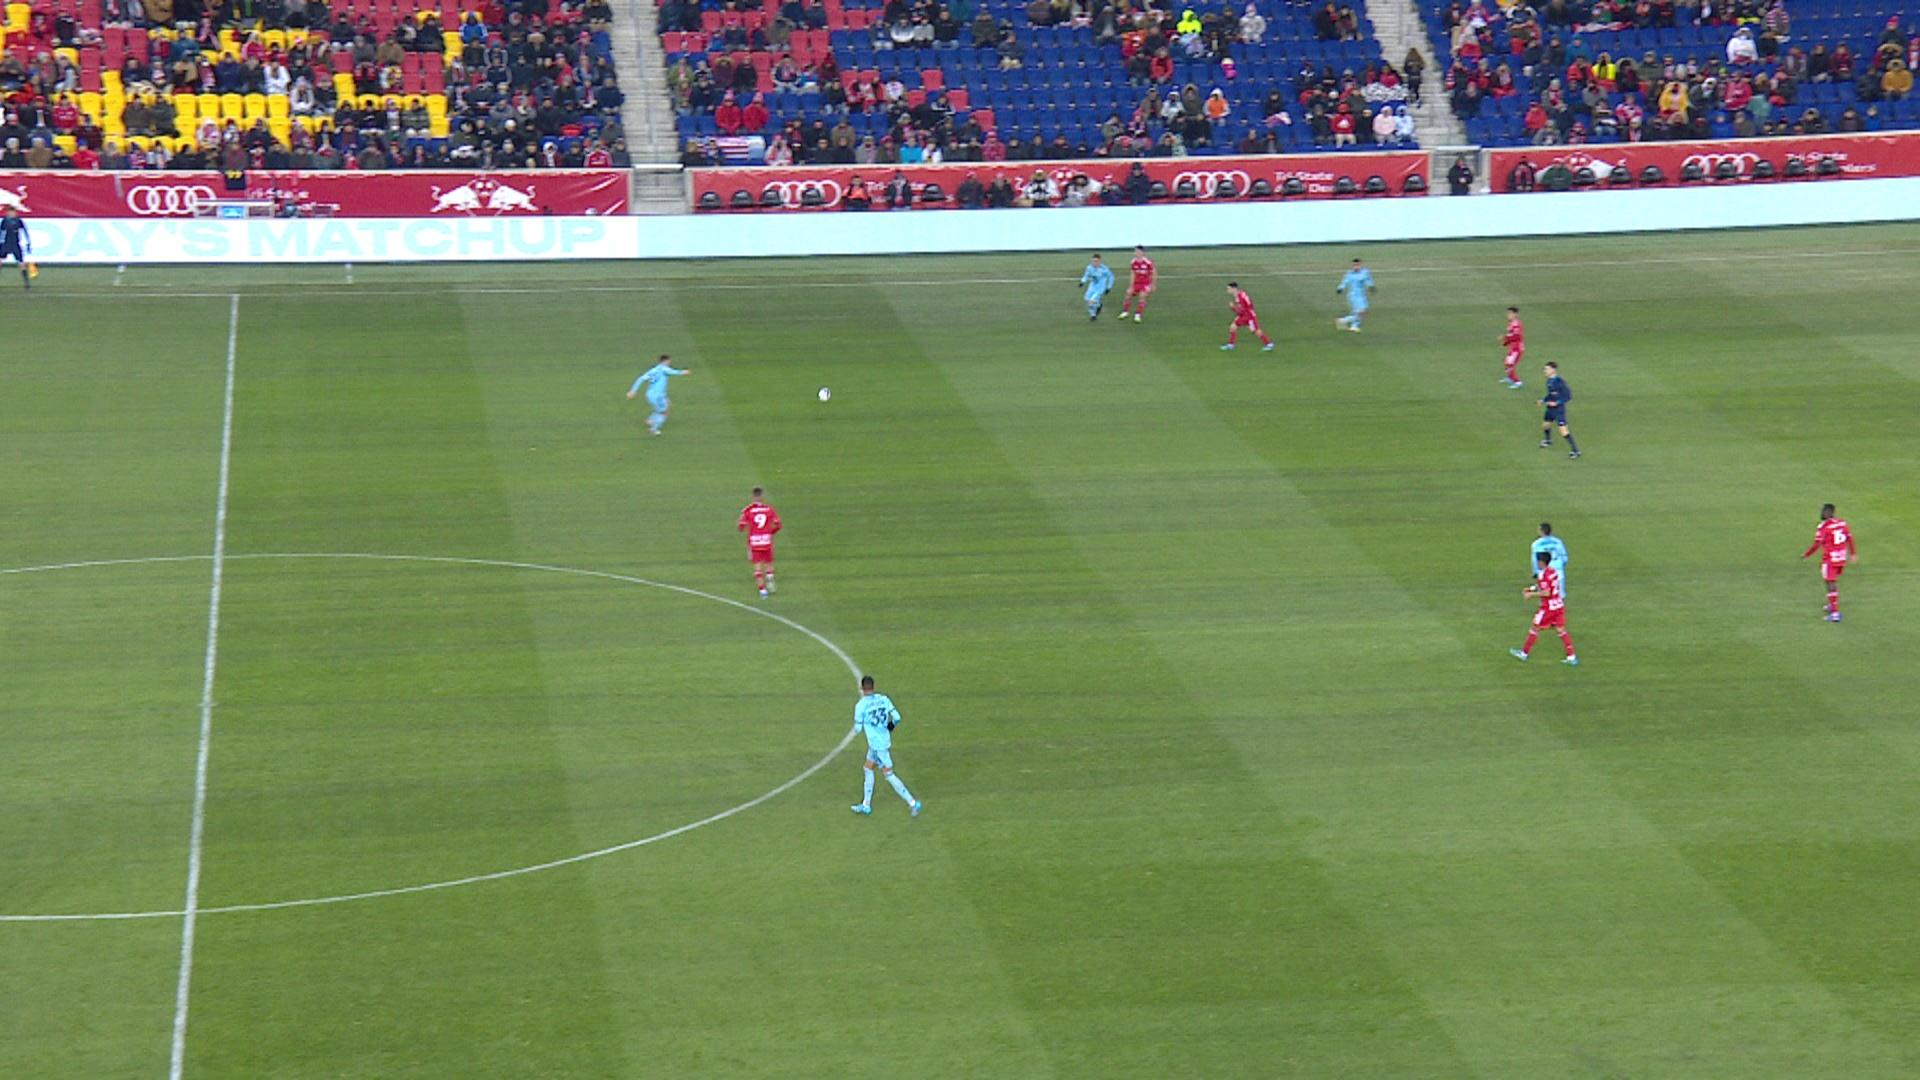football: (818, 386, 832, 402)
